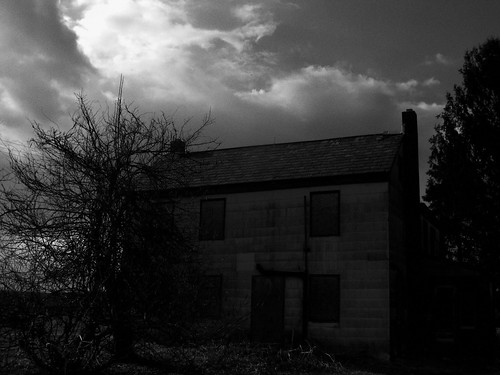building: (139, 115, 417, 349)
sky: (4, 1, 497, 139)
tree: (9, 115, 203, 350), (431, 32, 500, 295)
